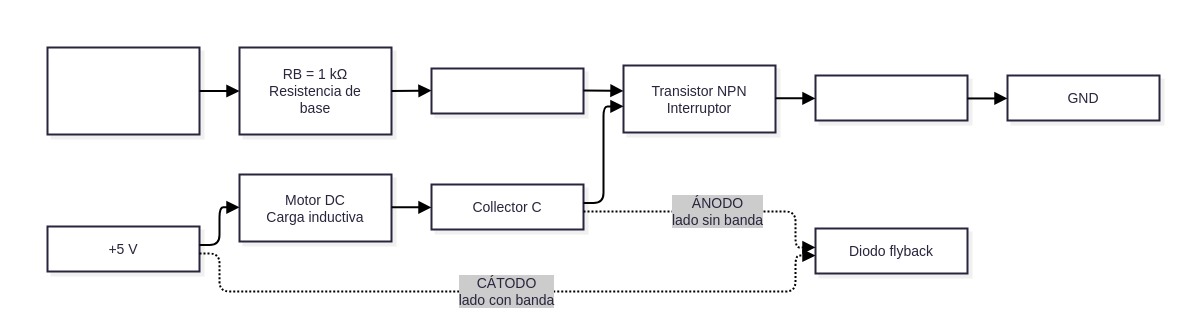
This 1181x325 diagram has some shape labels left out. The shapes that lost their labels are listed below. From the top down, each one's centre as x and y in pixels, then its label:
(125,92): F Salida pin 6 del 74HC32
(509,92): Base B
(893,99): Emitter E
